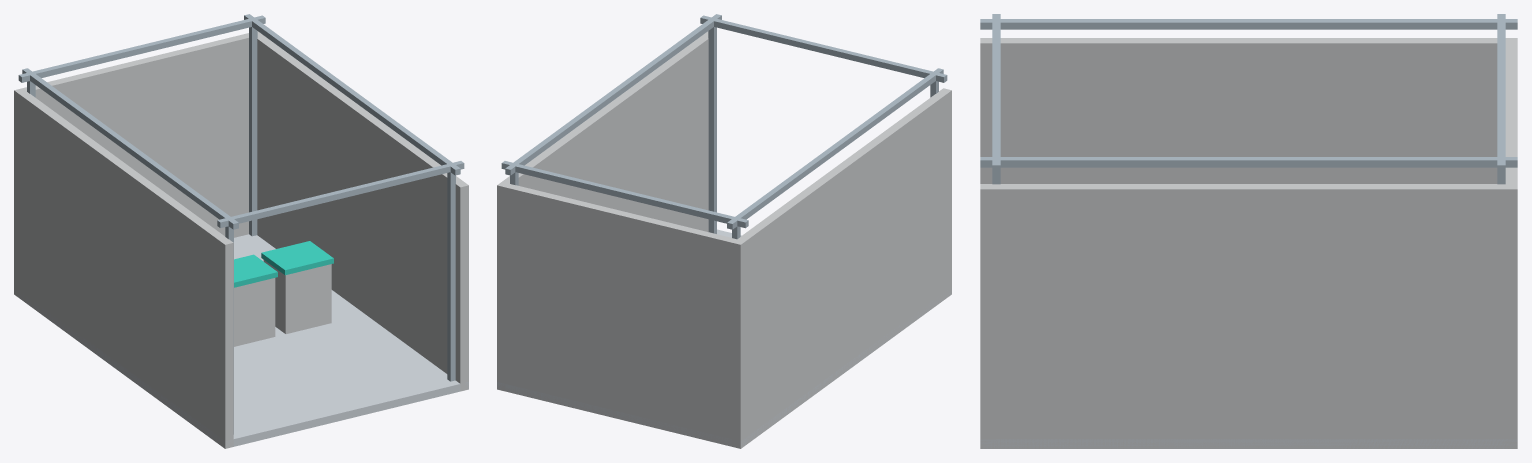
The picture shows the model from 3 angles, left to right: view 1: azimuth 30°, elevation 25°; view 2: azimuth 150°, elevation 25°; view 3: azimuth 270°, elevation 25°; orthographic projection. The views are drawn at different scales.
Visible parts, largest first — view 1: Exhibition Booth Concept; view 2: Exhibition Booth Concept; view 3: Exhibition Booth Concept.
Boxes of the visible parts, x1,y1,x2,y2 form: Exhibition Booth Concept: (14, 14, 468, 448); Exhibition Booth Concept: (497, 14, 951, 448); Exhibition Booth Concept: (980, 14, 1517, 448).
Size of the model in its own units: 4 by 3.49 by 6.
